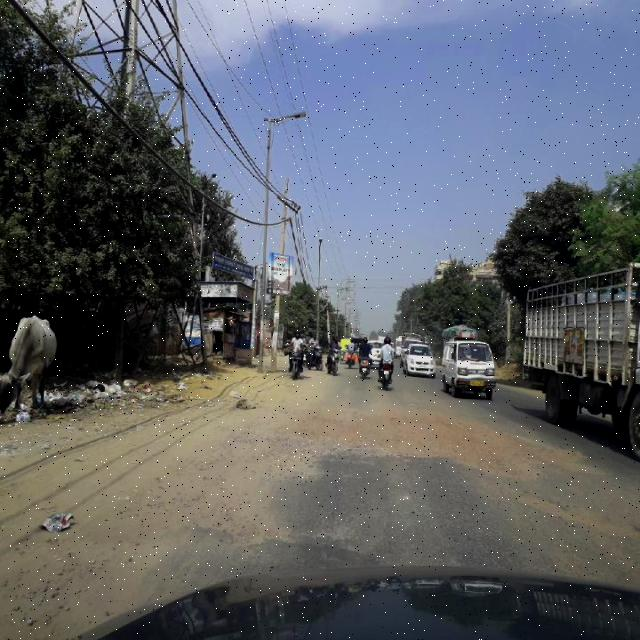D40: (263, 401, 584, 480), (178, 491, 361, 546), (509, 488, 639, 535)
